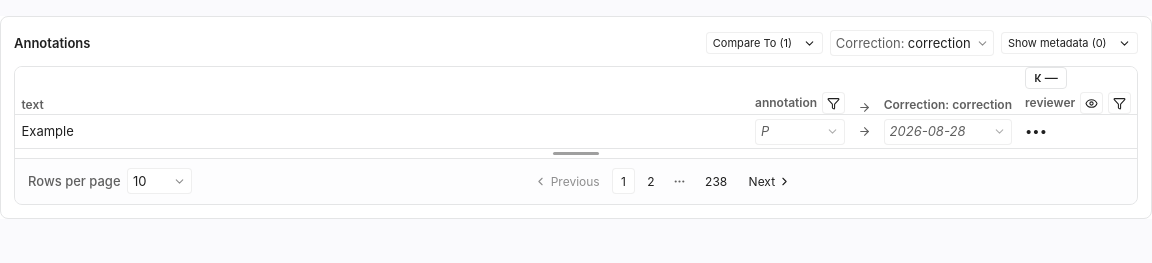
Test: AnnotationResultsPanel › keeps an existing non-Codebook annotation visible in its dropdown
The width and height of the screenshot is (1152, 263).
Expected: the dropdown named "Correction for row 1" reads "2026-08-28", 884,118 -> 1012,144
Click the dropdown named "Class for row 1" at (800, 132), box 755,118 -> 845,144
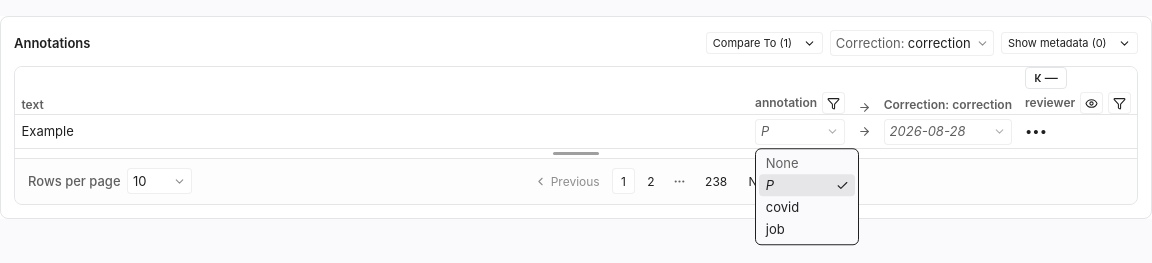
Now the option "job" is shown, box 766,221 -> 785,237
